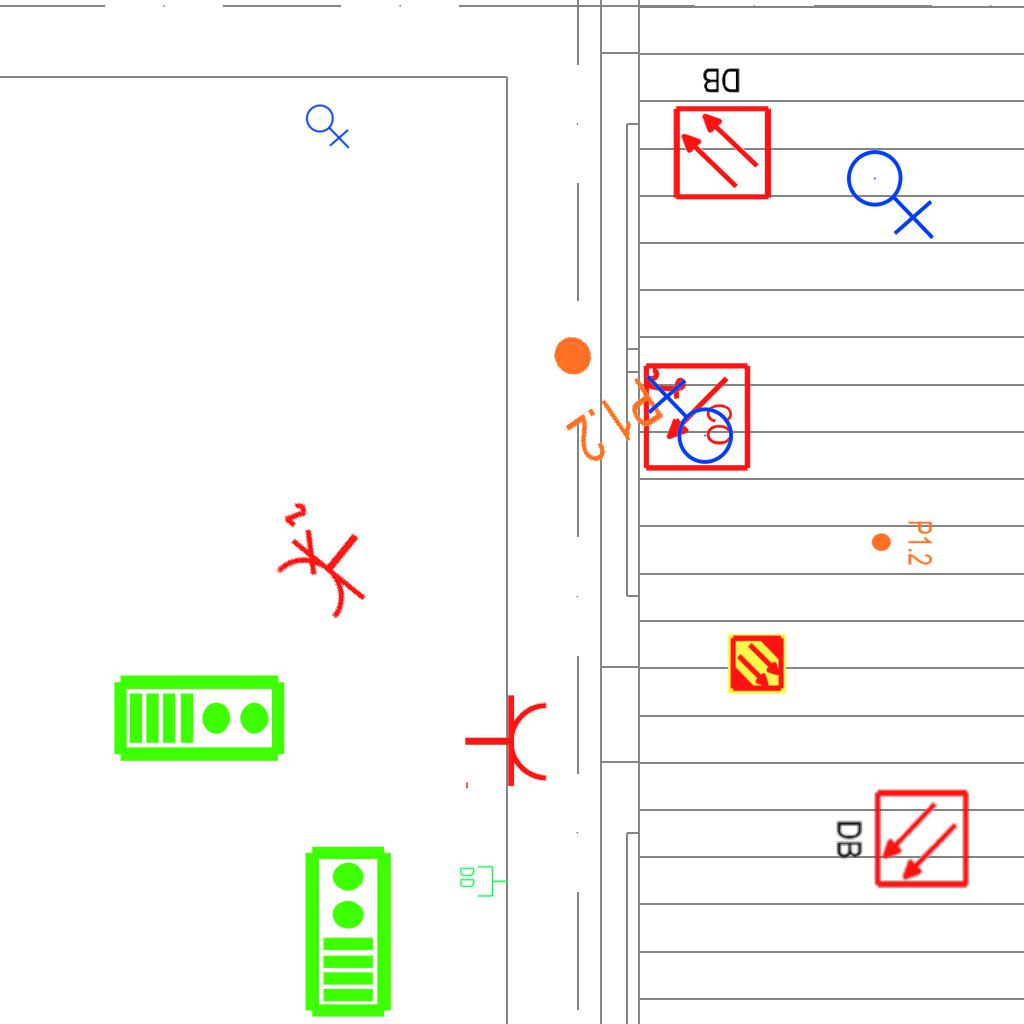ASR_Ansaugrauchmelder: (726, 633, 788, 695)
DB_Melder_in_Doppelboden_mit_Revisionsoeffnung_mind_40_x_40_cm: (664, 58, 778, 207), (827, 783, 976, 897)
Datenanschluss_zweifach: (458, 864, 509, 898)
Downlight_LED_Einbauleuchten_Flur: (520, 311, 669, 471), (870, 520, 934, 566)
Elektroanschluss_allgemein_230V_Geraeteanschlussdose_230V: (845, 141, 939, 240), (641, 374, 735, 473), (305, 100, 352, 149)
Gegensprechanlage_mit_Video: (299, 843, 394, 1019), (112, 669, 288, 764)
ROA_Rauchmelder_optisch_mit_Signalgeber_(Sockelsirene): (639, 361, 752, 474)
Schukosteckdose_einfach: (463, 693, 550, 793)
Schukosteckdose_mehrfach: (249, 486, 400, 632)
